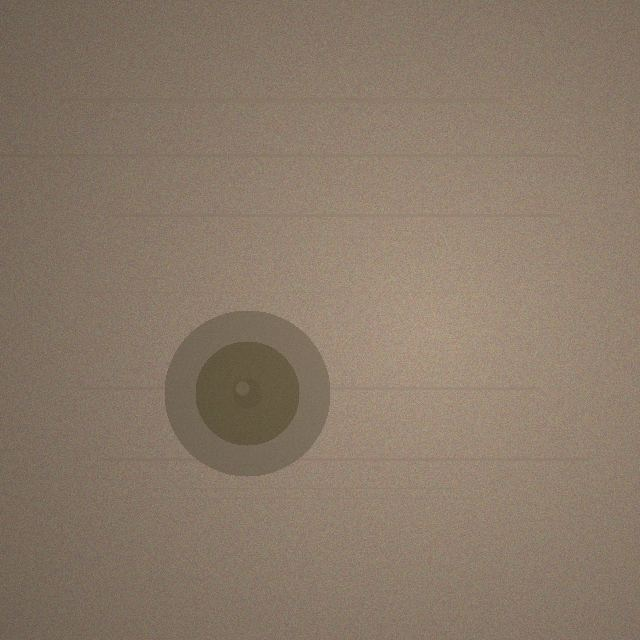good: (164, 310, 330, 476)
